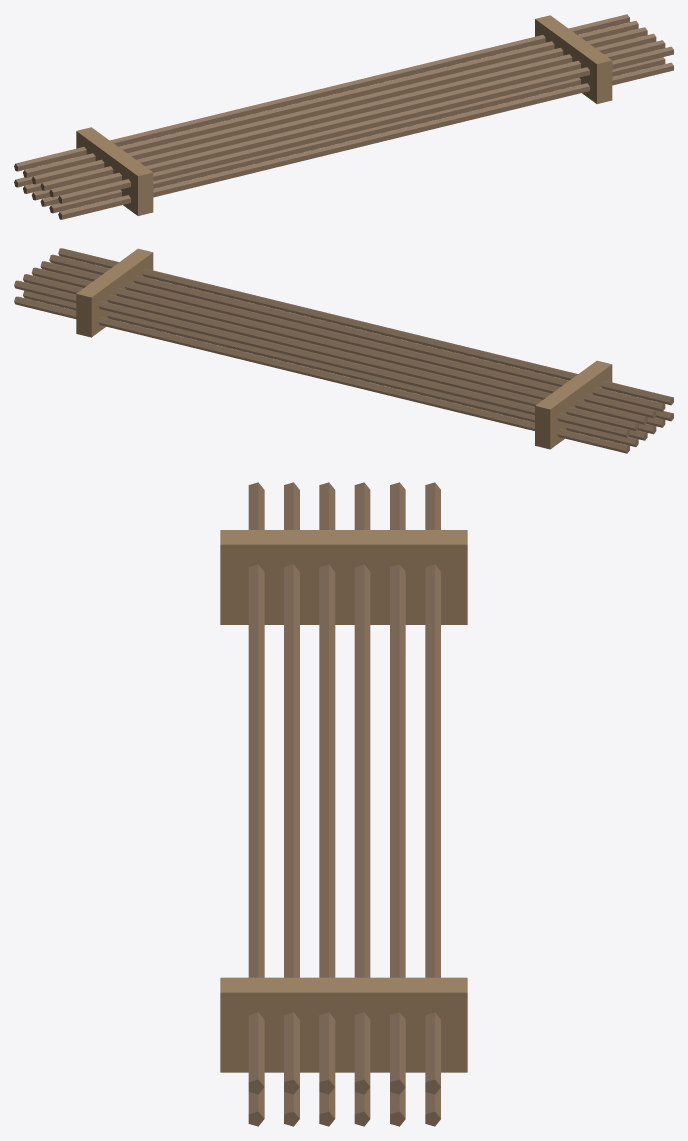
File: Demir_Destesi.glb
3 views of the same model, one above another, from view 1: azimuth 30°, elevation 25°; view 2: azimuth 150°, elevation 25°; view 3: azimuth 270°, elevation 25° (orthographic). The views are drawn at different scales.
Visible parts, largest first — view 1: Demir_Destesi; view 2: Demir_Destesi; view 3: Demir_Destesi.
Boxes of the visible parts, x1,y1,x2,y2 form: Demir_Destesi: (14,14,673,219); Demir_Destesi: (14,248,673,453); Demir_Destesi: (220,482,467,1126).
Size of the model in its own units: 4 by 0.25 by 0.7.
